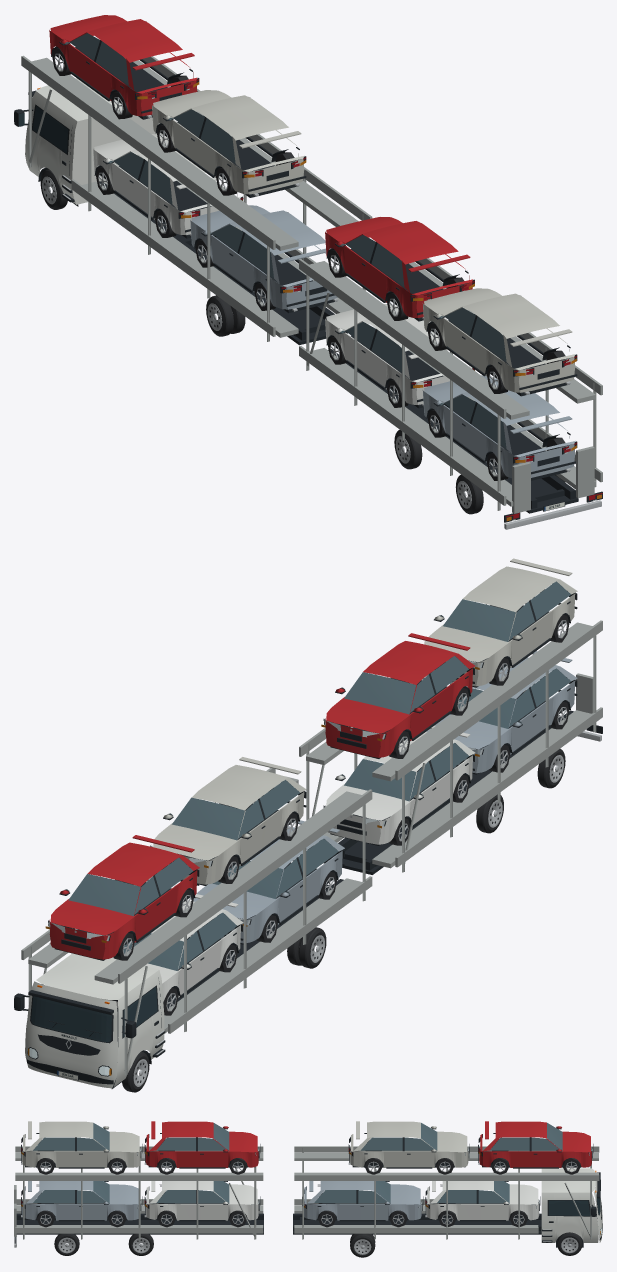
The model's file is Entrega_22_LOD0.glb.
The picture shows the model from 3 angles, top to bottom: view 1: azimuth 30°, elevation 25°; view 2: azimuth 150°, elevation 25°; view 3: azimuth 270°, elevation 25°; orthographic projection. The views are drawn at different scales.
Visible parts, largest first — view 1: Body (×2), Load_04, Load_08, Load_03, Load_07, Load_06, Load_02, Load_05, Load_01, Wheel_Trailer_RL (×2), Wheel_RL, Glass (+1 smaller); view 2: Body (×2), Load_03, Load_07, Load_04, Load_08, Load_05, Load_06, Load_02, Load_01, Glass, Wheel_Trailer_RL (×2), Wheel_RL (+1 smaller); view 3: Body (×2), Load_04, Load_08, Load_07, Load_03, Load_02, Load_06, Load_01, Load_05, Wheel_Trailer_RR (×2), Glass, Wheel_RR (+1 smaller).
Part boxes in pixels (<box>): Body (×2): <box>14,55,602,529</box>; Load_04: <box>152,90,306,197</box>; Load_08: <box>422,288,577,396</box>; Load_03: <box>49,15,199,119</box>; Load_07: <box>325,217,474,321</box>; Load_06: <box>422,375,577,480</box>; Load_02: <box>190,205,338,313</box>; Load_05: <box>325,304,474,408</box>; Load_01: <box>93,134,243,238</box>; Wheel_Trailer_RL (×2): <box>394,429,483,514</box>; Wheel_RL: <box>206,295,245,336</box>; Glass: <box>32,106,68,153</box>; Body (×2): <box>14,620,602,1088</box>; Load_03: <box>45,835,199,960</box>; Load_07: <box>321,633,475,758</box>; Load_04: <box>150,757,306,885</box>; Load_08: <box>424,558,577,687</box>; Load_05: <box>323,725,475,845</box>; Load_06: <box>426,651,577,774</box>; Load_02: <box>193,820,344,944</box>; Load_01: <box>101,894,243,1015</box>; Glass: <box>31,987,157,1042</box>; Wheel_Trailer_RL (×2): <box>476,748,565,833</box>; Wheel_RL: <box>287,927,326,968</box>; Body (×2): <box>14,1146,602,1247</box>; Load_04: <box>348,1121,469,1174</box>; Load_08: <box>21,1121,142,1174</box>; Load_07: <box>144,1121,260,1174</box>; Load_03: <box>478,1121,593,1174</box>; Load_02: <box>302,1181,423,1227</box>; Load_06: <box>21,1181,142,1227</box>; Load_01: <box>425,1181,540,1226</box>; Load_05: <box>144,1181,260,1227</box>; Wheel_Trailer_RR (×2): <box>54,1233,153,1255</box>; Glass: <box>549,1198,600,1215</box>; Wheel_RR: <box>350,1233,375,1257</box>.
Bounding box in the file's own units: 2.91 × 4.42 × 20.61.
Materials: 16 (2 with a texture image).
